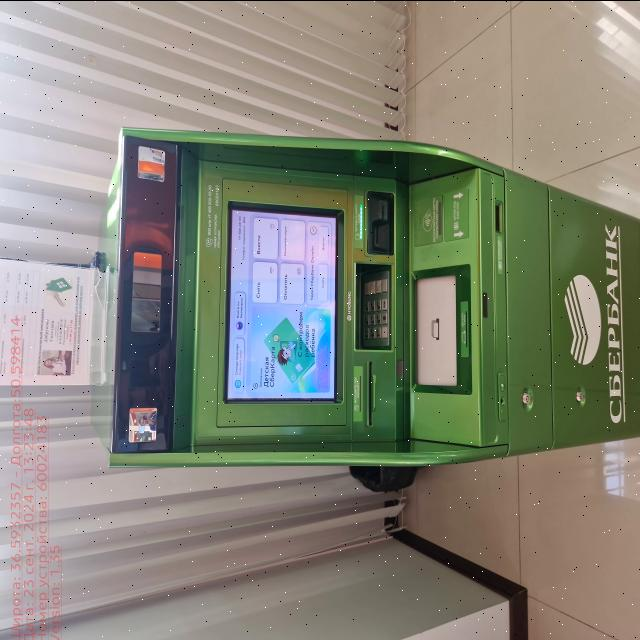bank: (91, 138, 640, 476)
